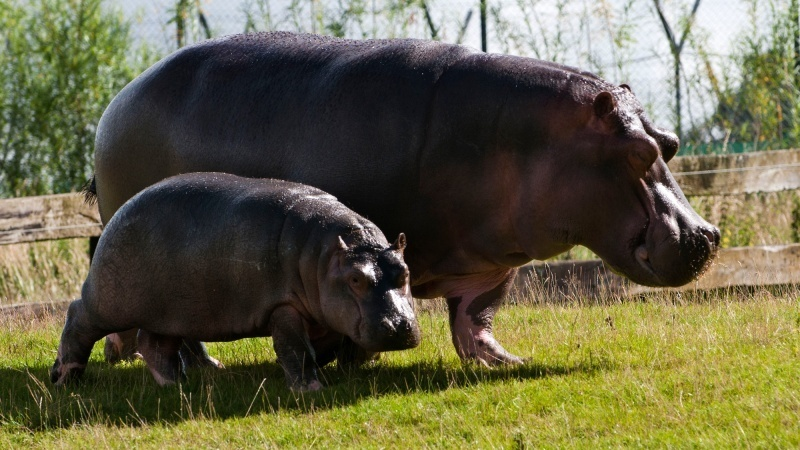hipopotamo: (90, 30, 725, 376), (50, 170, 427, 406)
